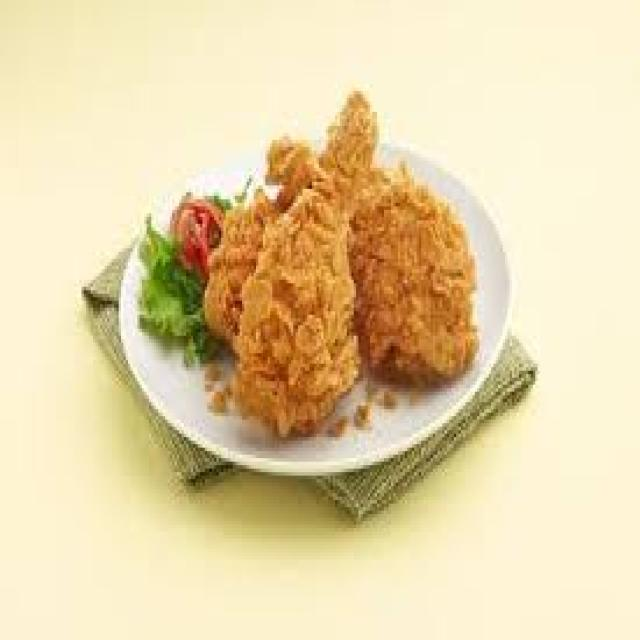ayam_goreng: (202, 71, 482, 428), (245, 89, 368, 394)
